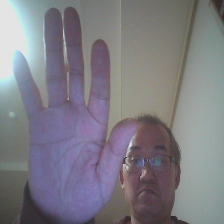hand: (9, 9, 134, 223)
